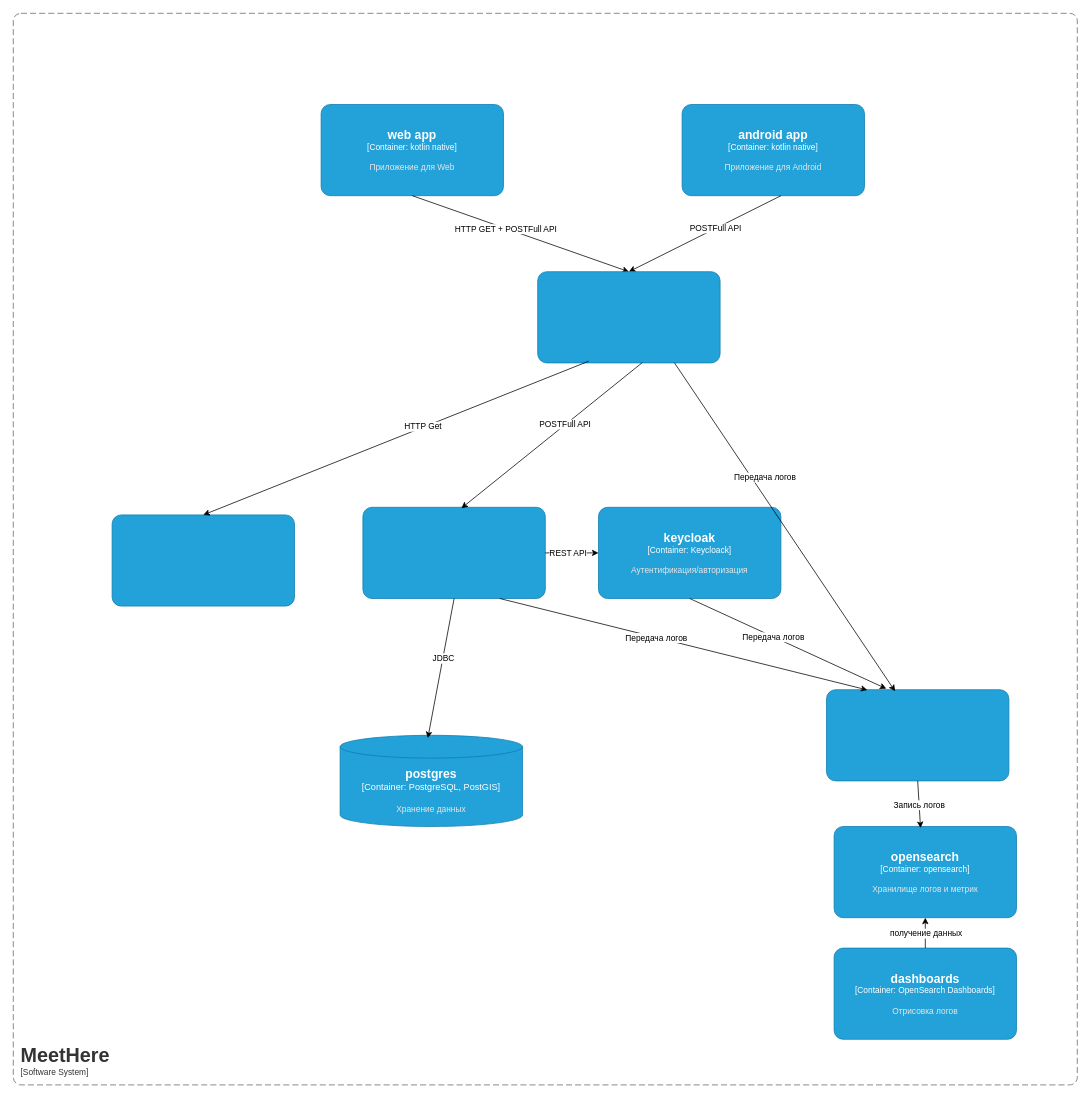
Some shapes in this 1091 by 1098 pixel diagram are drawn without their labels. The box of each missing label's shape, as (x1, y1, x2, y2) in pixels:
app [Container: SpringBoot] Description of container role/responsibility.: (362, 507, 545, 598)
envoy [Container: Envoy] Прокси: (537, 271, 720, 363)
fluent-bit [Container: fluent-bit] Сбор логов: (826, 689, 1009, 781)
statics [Container: nginx] Хранит статические html-страницы: (111, 514, 294, 606)
